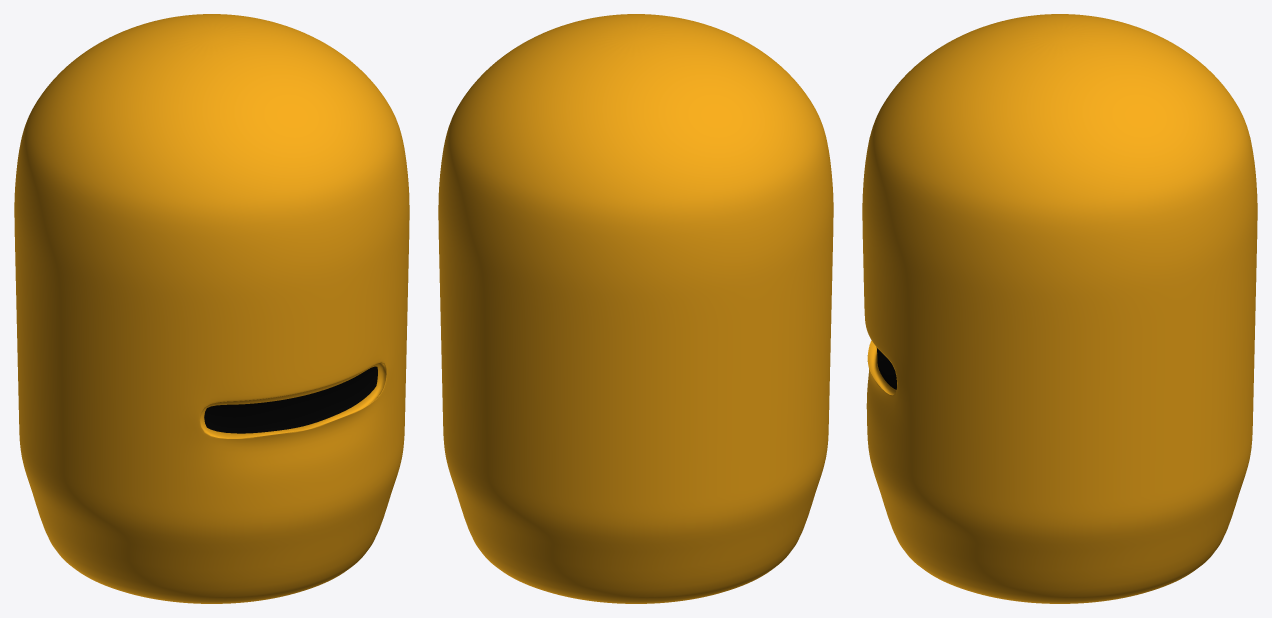
Rendered from minion.obj.
3 renders of one model, left to right at view 1: azimuth 30°, elevation 25°; view 2: azimuth 150°, elevation 25°; view 3: azimuth 270°, elevation 25°, orthographic.
Parts seen in each view (by area): view 1: Sphere_Sphere.003; view 2: Sphere_Sphere.003; view 3: Sphere_Sphere.003.
Boxes of the visible parts, x1,y1,x2,y2 form: Sphere_Sphere.003: [14, 14, 409, 603]; Sphere_Sphere.003: [438, 14, 833, 603]; Sphere_Sphere.003: [862, 14, 1257, 603].
Bounding box in the file's own units: 1.98 × 2.91 × 1.98.
